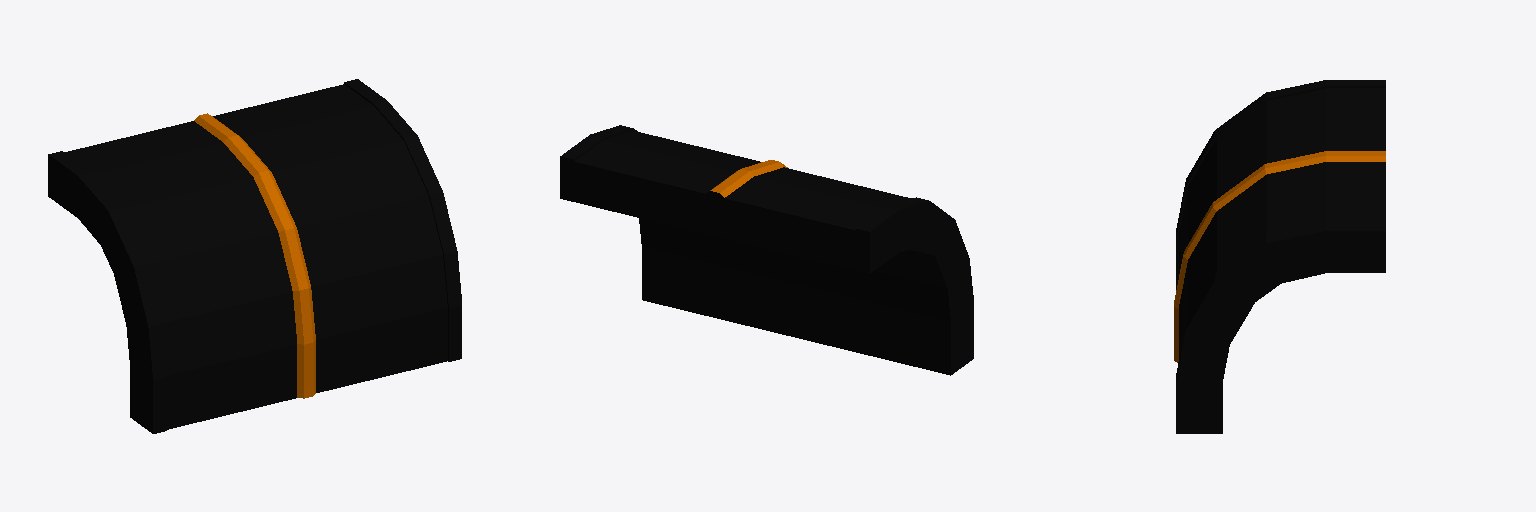
Rendered from road_segment_end.obj.
The picture shows the model from 3 angles: view 1: azimuth 30°, elevation 25°; view 2: azimuth 150°, elevation 25°; view 3: azimuth 270°, elevation 25°; orthographic projection.
Visible parts, largest first — view 1: Cube; view 2: Cube; view 3: Cube.
Boxes of the visible parts, x1,y1,x2,y2 form: Cube: [48, 79, 461, 433]; Cube: [560, 125, 973, 375]; Cube: [1174, 80, 1385, 433].
Bounding box in the file's own units: 16 × 10.16 × 9.49.